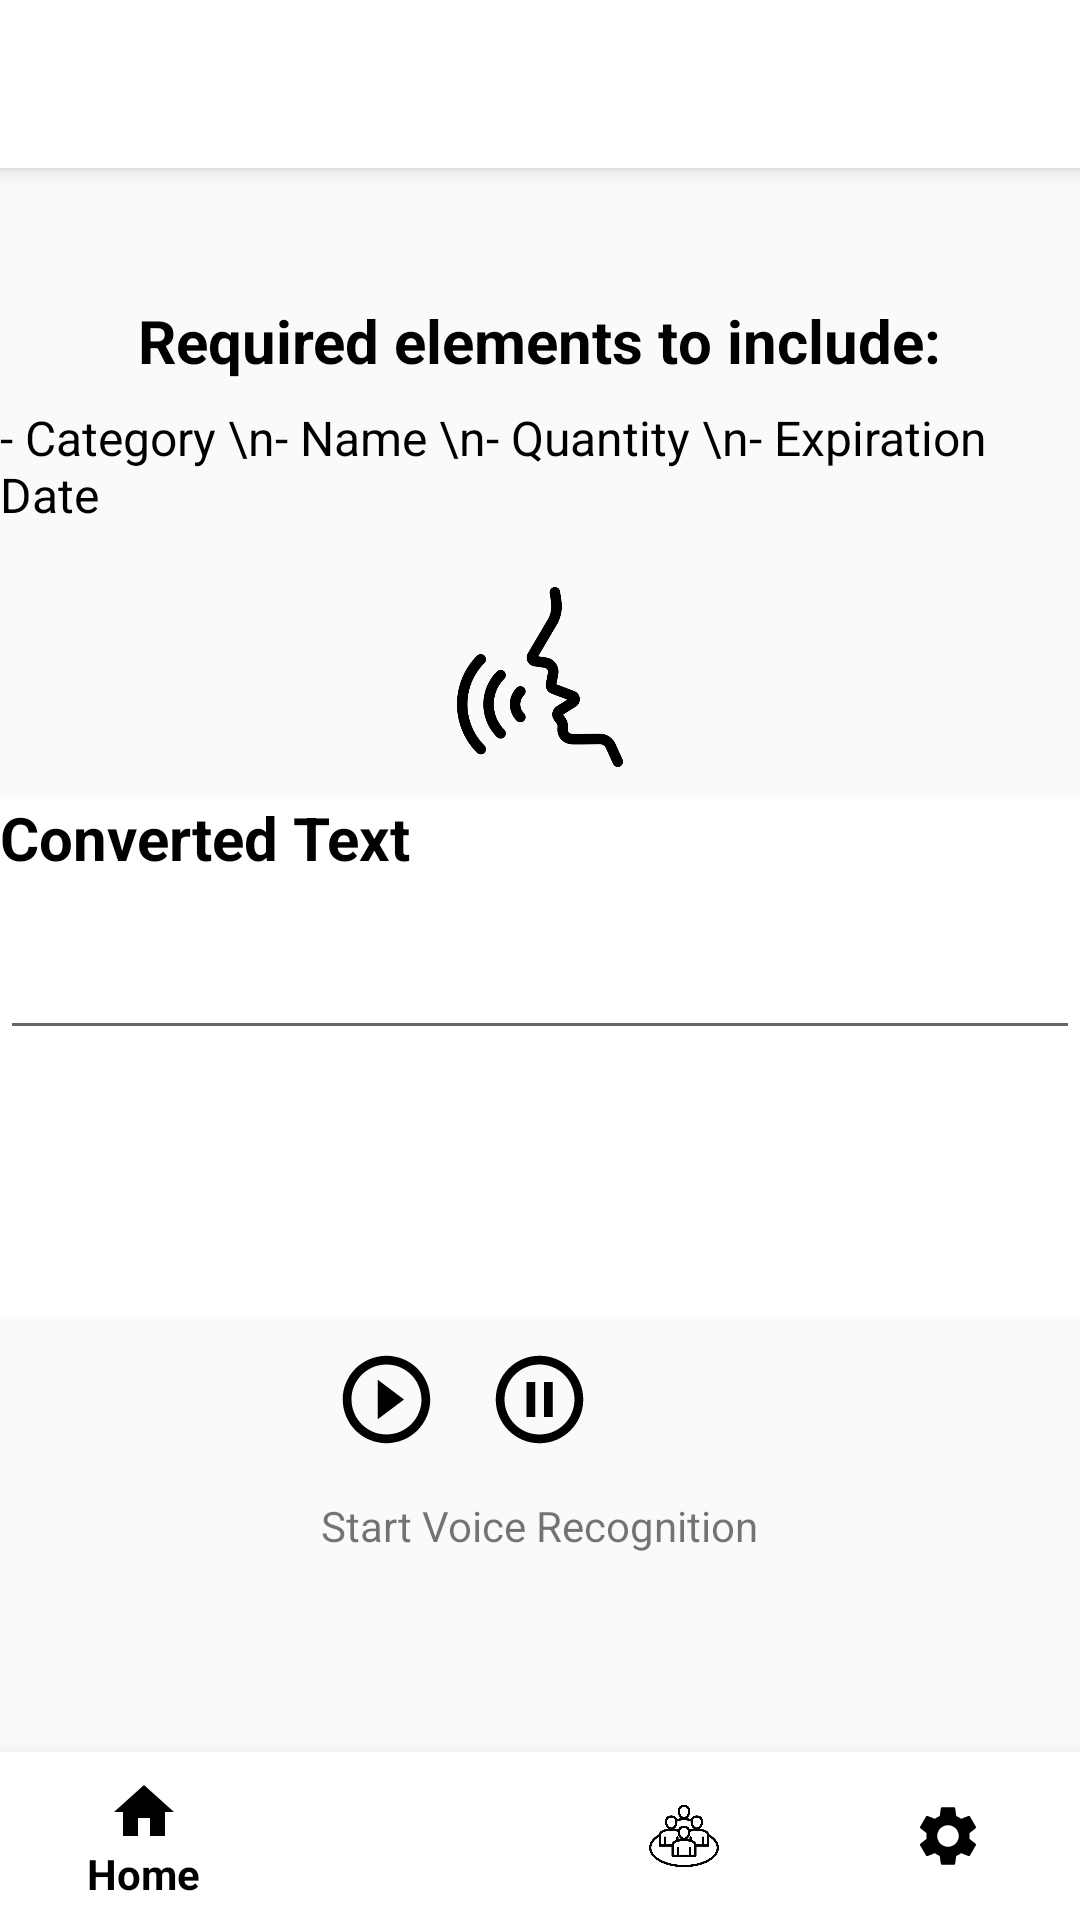

Named icons in this screenshot (1080px x 1920px) and their bounding boxes, (x1, y1, x2, y2):
voice record pause: (495, 1355, 584, 1444)
voice record start: (342, 1355, 431, 1444)
voice registration: (457, 587, 623, 767)
